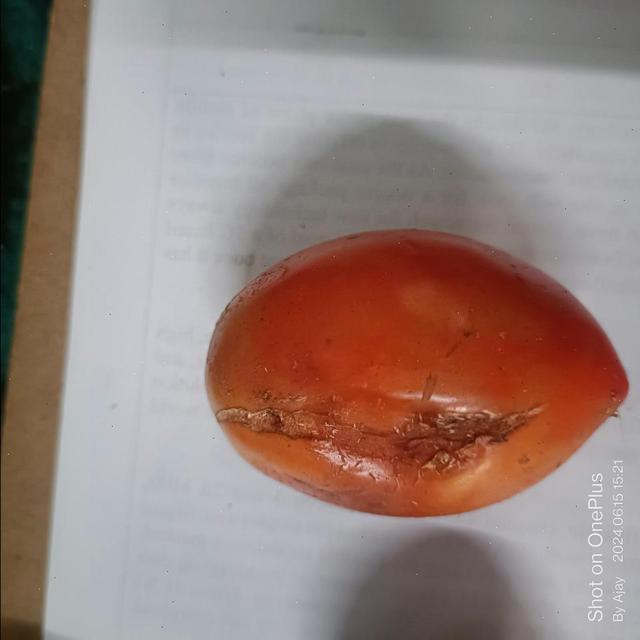Cracking Fruit: (112, 169, 430, 482)
